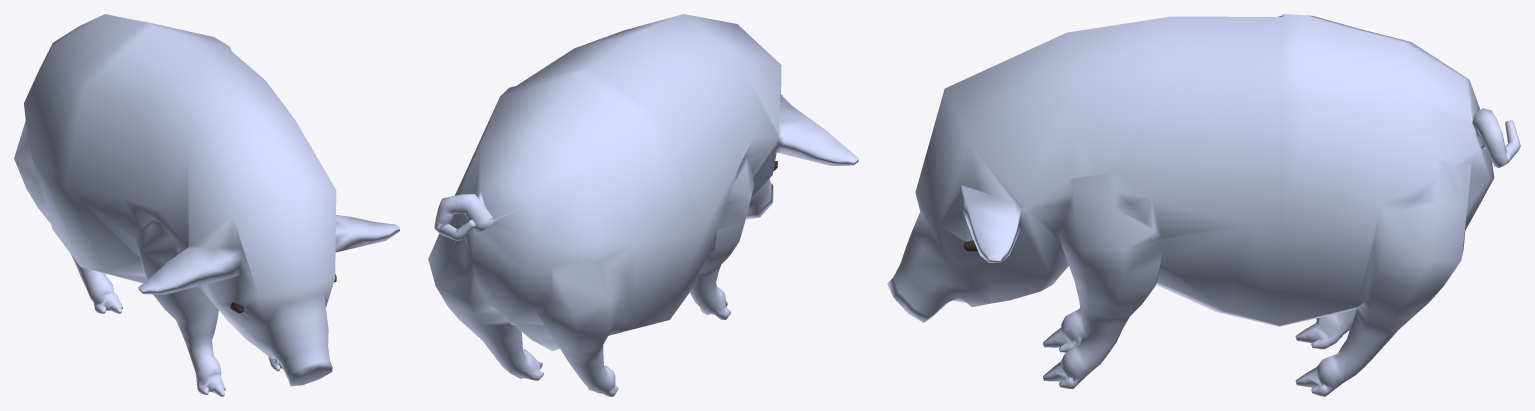
Rendered from pig.fbx.
The picture shows the model from 3 angles, left to right: view 1: azimuth 30°, elevation 25°; view 2: azimuth 150°, elevation 25°; view 3: azimuth 270°, elevation 25°; orthographic projection. The views are drawn at different scales.
Parts seen in each view (by area): view 1: unamed; view 2: unamed; view 3: unamed.
Boxes of the visible parts, box(x1,y1,x2,y2) form: unamed: box(14, 14, 399, 396); unamed: box(428, 14, 858, 396); unamed: box(887, 14, 1520, 396).
Bounding box in the file's own units: 0.954 × 1.04 × 1.69.
1 material, 1 textured.
